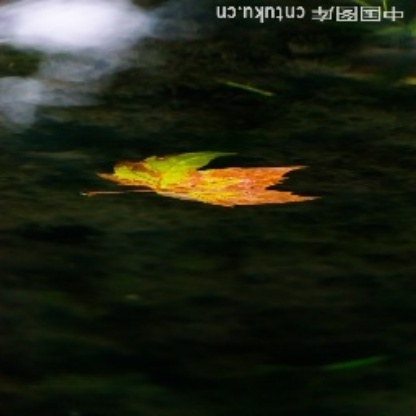leaf: (82, 149, 320, 215)
